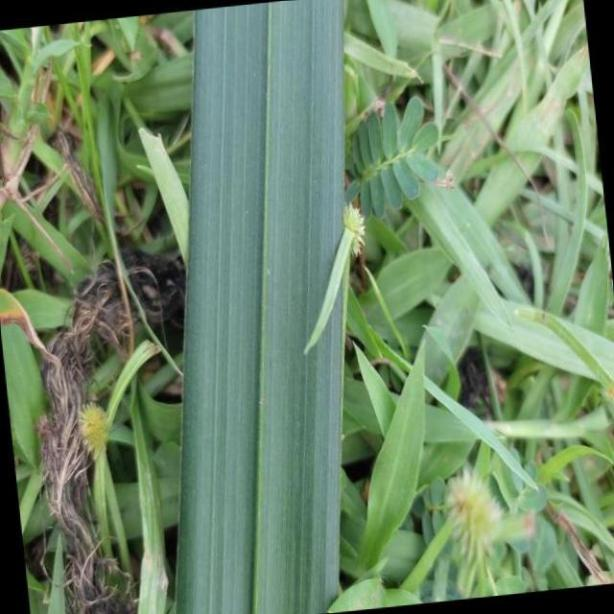Healthy: (184, 0, 345, 614)
